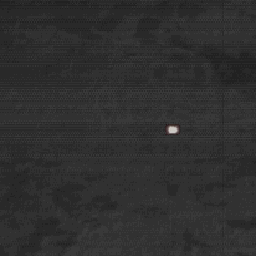Target: (167, 125, 181, 135)
